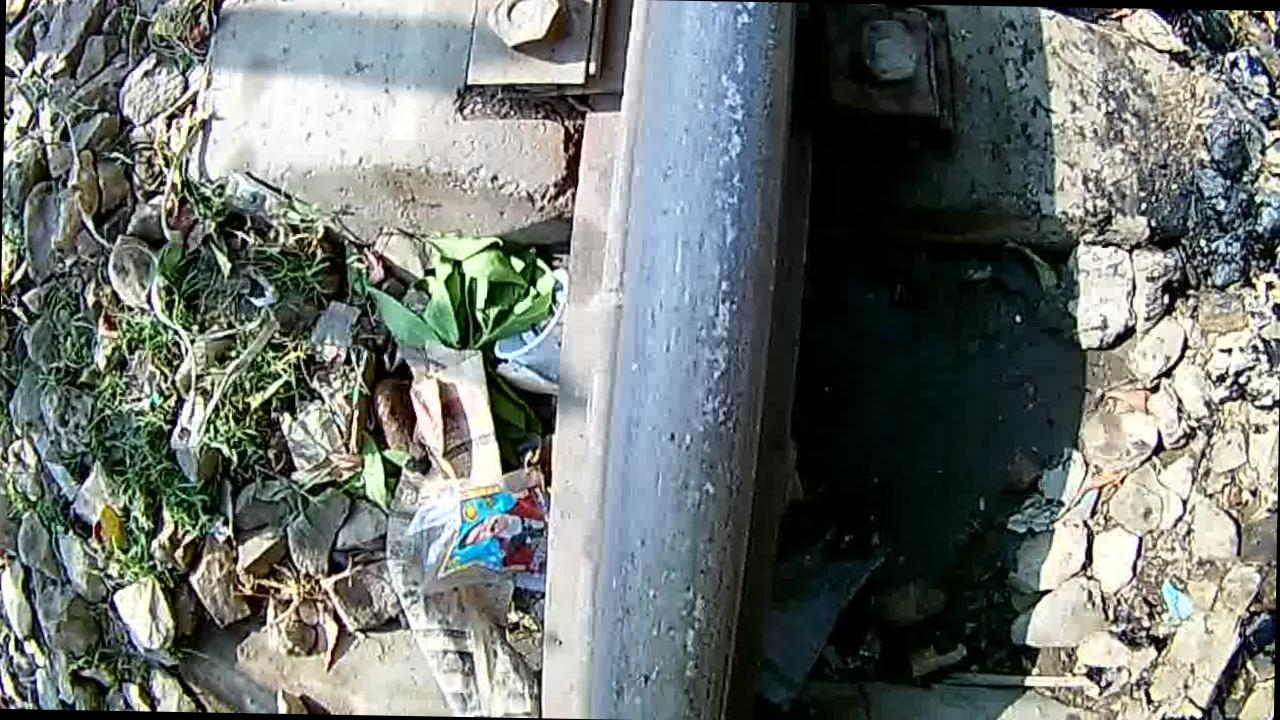clip_missing: (603, 0, 800, 720)
